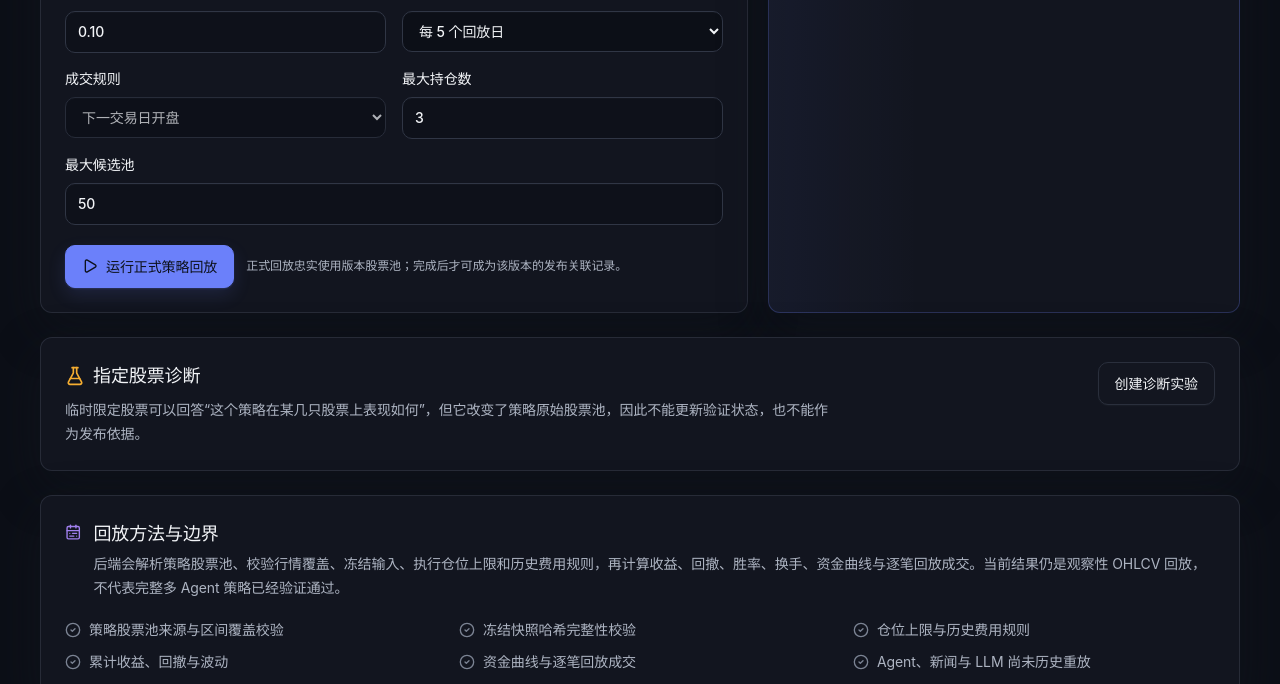
StrategyValidationPage › submits an explicit diagnostic purpose without changing the formal universe
(page scrolled)
Click the button "创建诊断实验" at (1156, 383), box [1098,362,1215,405]
(page scrolled)
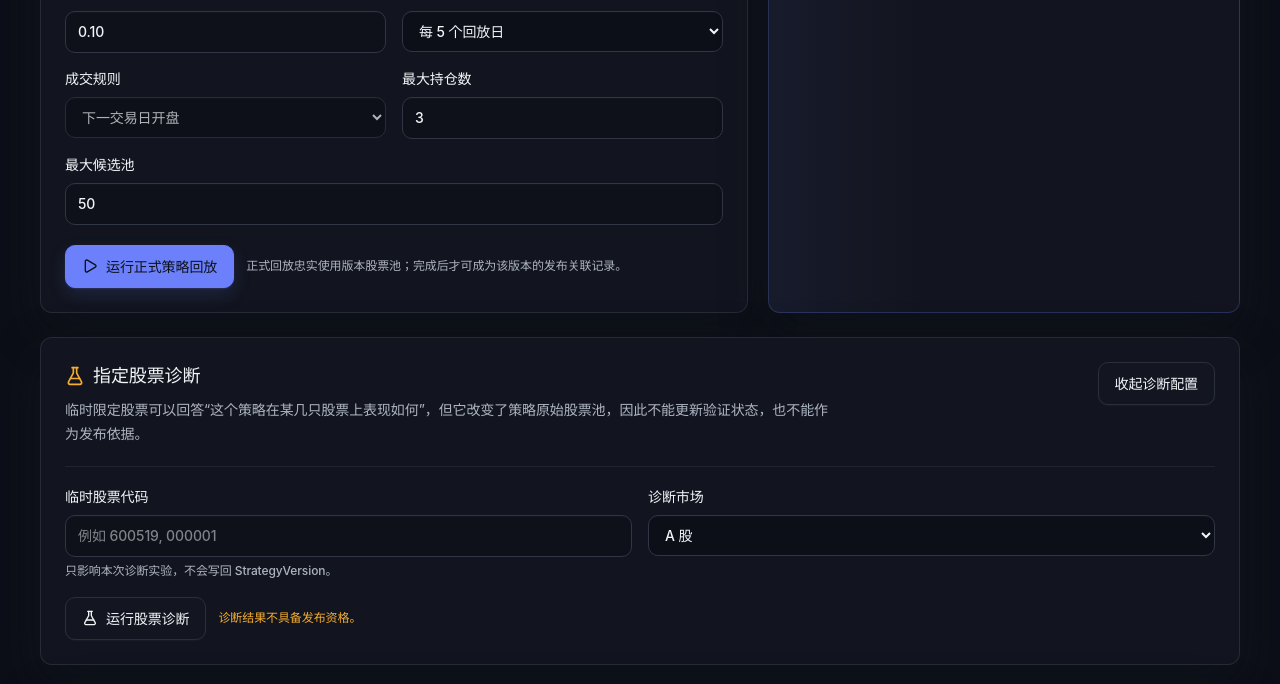
Type "600519" into the field named "诊断股票代码" at (348, 536), box [65,515,632,557]
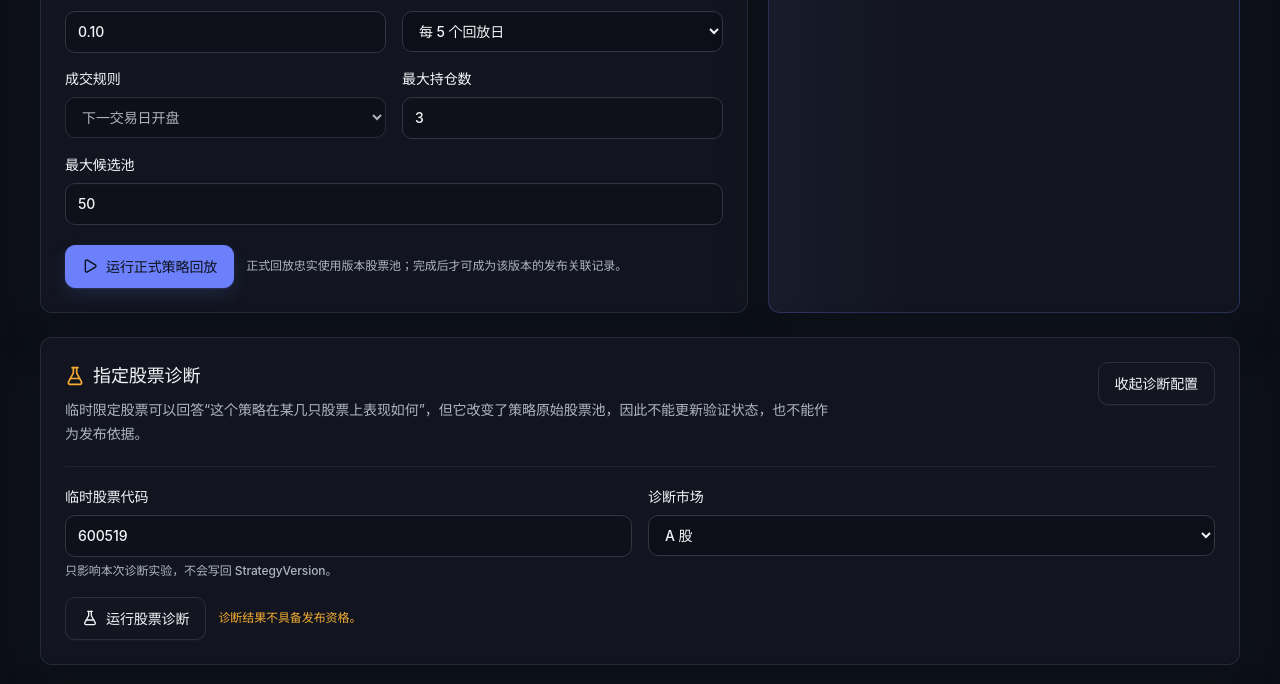
Click the button "运行股票诊断" at (136, 618), box [65,597,206,640]
(page scrolled)
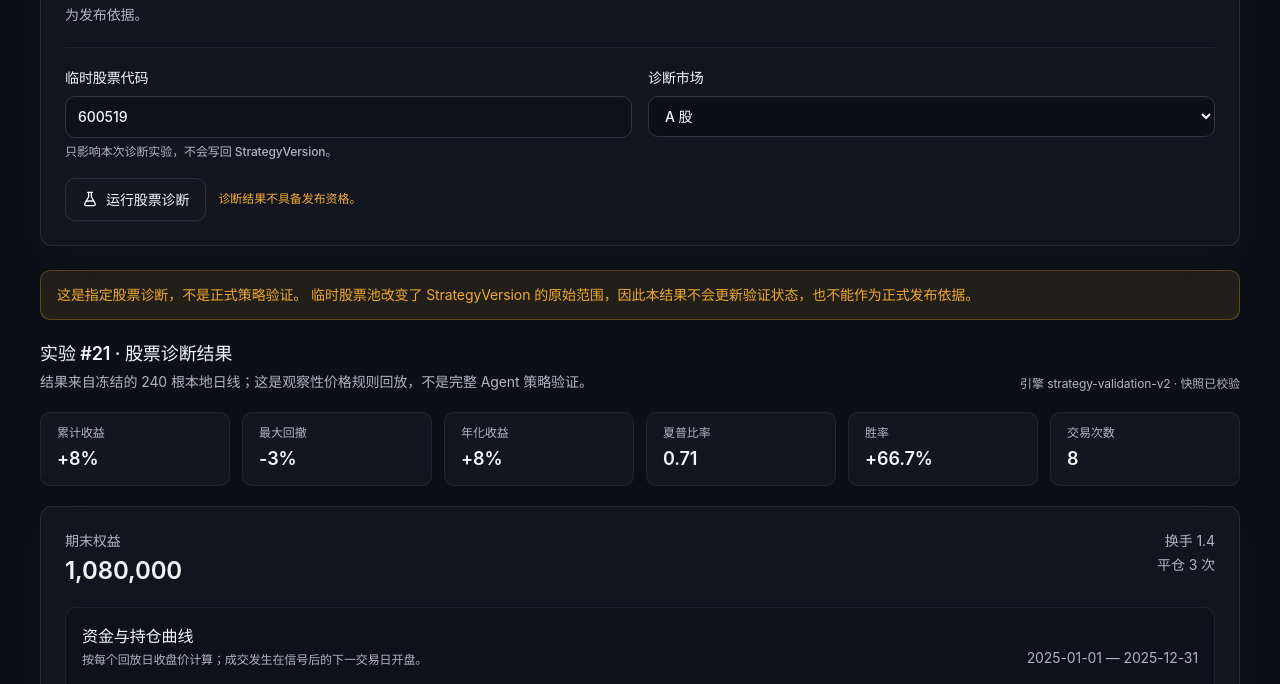
Expected: the text "这是指定股票诊断，不是正式策略验证。" is shown, [57,286,307,303]
Expected: the heading "实验 #21 · 股票诊断结果" is shown, [40,343,232,364]
